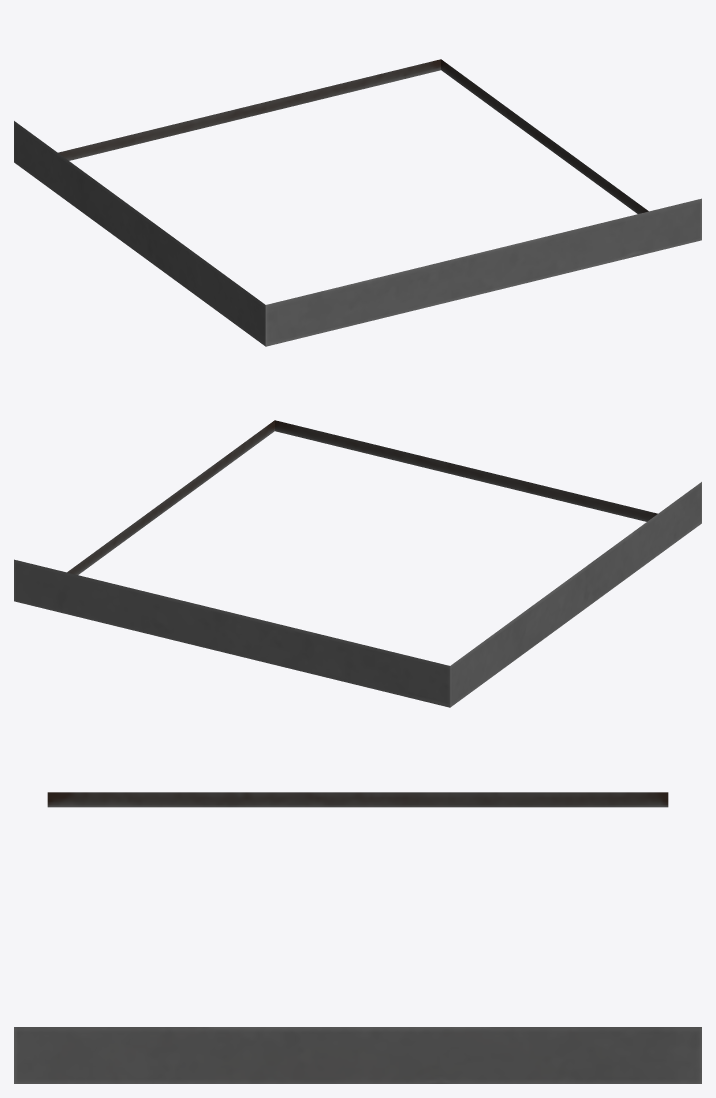
The model's file is SM_Props_Light_01.glb.
3 renders of one model, top to bottom at view 1: azimuth 30°, elevation 25°; view 2: azimuth 150°, elevation 25°; view 3: azimuth 270°, elevation 25°, orthographic. The views are drawn at different scales.
Visible parts, largest first — view 1: SM_Props_Light_01; view 2: SM_Props_Light_01; view 3: SM_Props_Light_01.
Part boxes in pixels (left/top/right/bottom): SM_Props_Light_01: left=14, top=59, right=701, bottom=346; SM_Props_Light_01: left=14, top=420, right=701, bottom=707; SM_Props_Light_01: left=14, top=792, right=701, bottom=1083.
Bounding box in the file's own units: 0.6 × 0.0549 × 0.6.
Materials: 1 (1 with a texture image).
